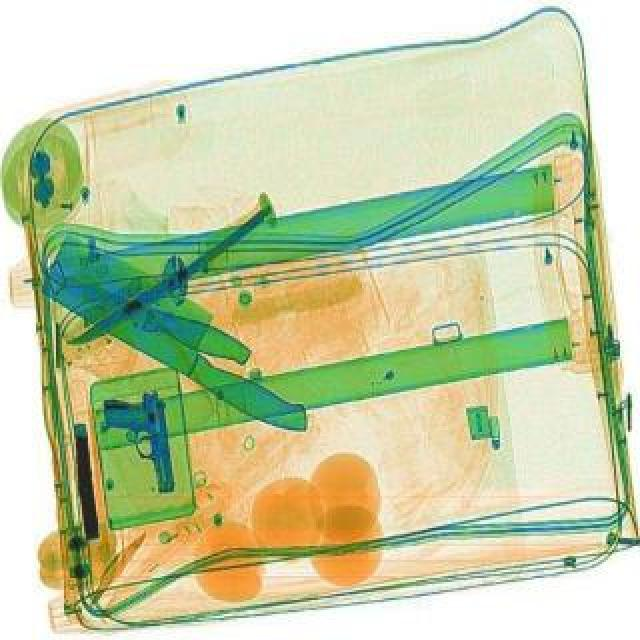gun: (100, 386, 178, 498), (66, 420, 102, 538)
knife: (28, 226, 340, 442), (62, 204, 280, 352), (34, 252, 254, 370)
